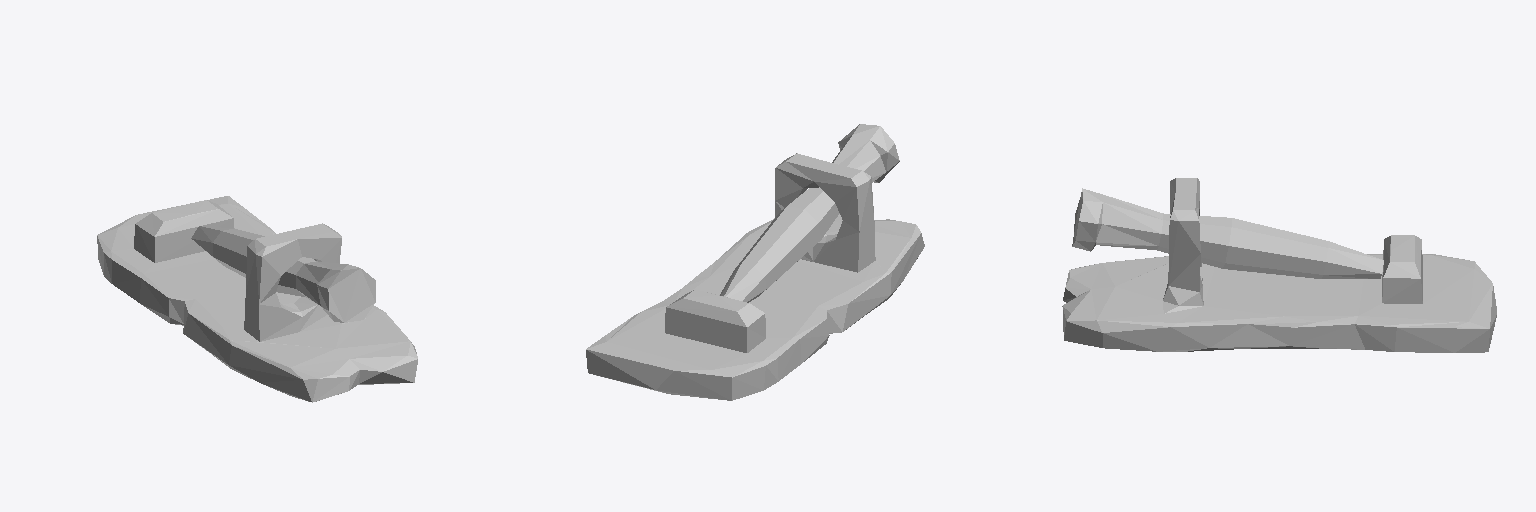
Rendered from Torch_Wall_set.obj.
The picture shows the model from 3 angles: view 1: azimuth 30°, elevation 25°; view 2: azimuth 150°, elevation 25°; view 3: azimuth 270°, elevation 25°; orthographic projection.
Parts seen in each view (by area): view 1: Torch_Holder_Low.001_Cube.002; view 2: Torch_Holder_Low.001_Cube.002; view 3: Torch_Holder_Low.001_Cube.002.
Boxes of the visible parts, box(x1,y1,x2,y2) form: Torch_Holder_Low.001_Cube.002: box(97, 196, 417, 402); Torch_Holder_Low.001_Cube.002: box(586, 124, 924, 400); Torch_Holder_Low.001_Cube.002: box(1062, 178, 1496, 352).
Bounding box in the file's own units: 40.74 × 30.75 × 99.28.